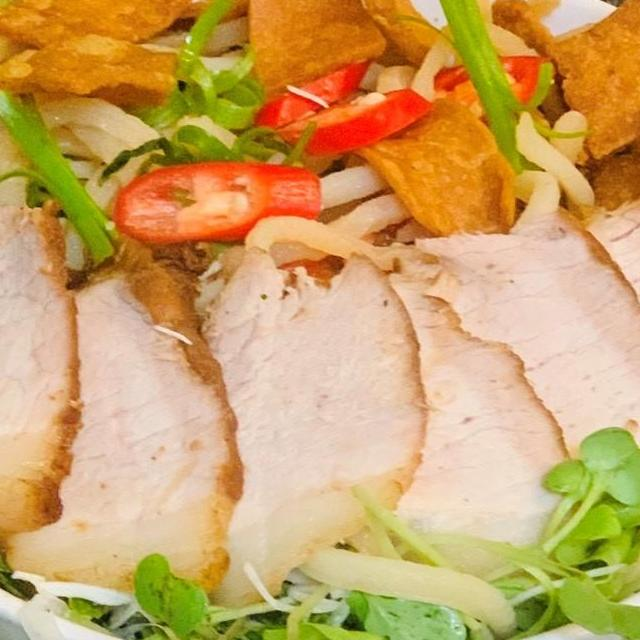banh da: (417, 335, 631, 472), (372, 567, 626, 640), (522, 485, 640, 640), (285, 0, 539, 36), (488, 0, 640, 57), (594, 60, 640, 218), (598, 260, 640, 419)
mi: (350, 34, 628, 398), (427, 382, 640, 537)
thit heo: (32, 378, 466, 634), (0, 308, 390, 533), (0, 70, 439, 267), (0, 210, 423, 407), (0, 0, 515, 143), (115, 508, 504, 640)
